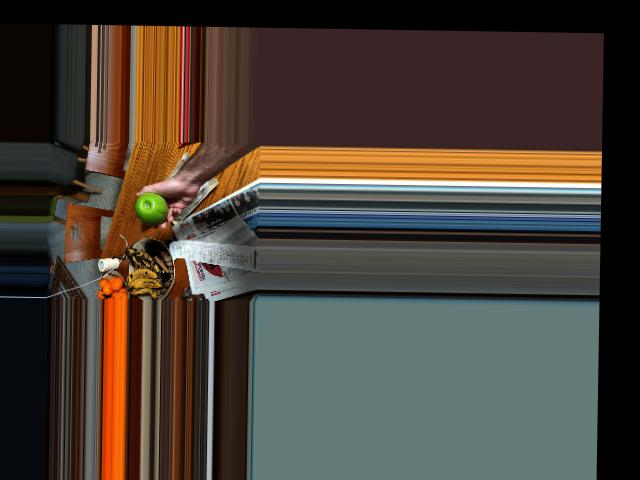apple: (133, 189, 169, 226)
